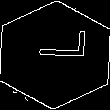L_W: (26, 38, 84, 72)
